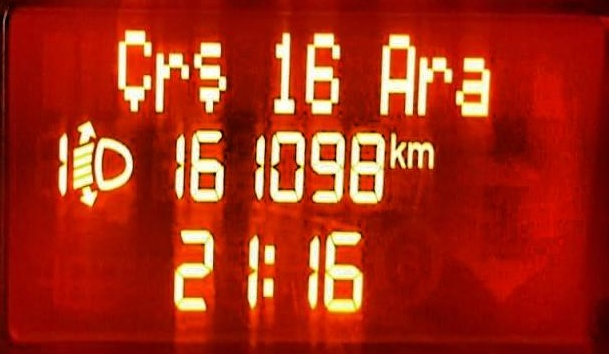0: (269, 128, 306, 202)
1: (272, 29, 295, 114), (244, 233, 259, 310), (304, 233, 319, 310), (252, 132, 265, 200), (56, 130, 69, 197), (173, 131, 185, 198)
2: (171, 227, 213, 311)
6: (321, 228, 363, 314), (302, 30, 341, 114), (188, 128, 225, 202)
8: (346, 131, 386, 205)
9: (308, 129, 345, 203)
X: (378, 32, 416, 115), (116, 28, 152, 110), (193, 39, 226, 112), (416, 54, 453, 116), (454, 54, 490, 117), (153, 50, 188, 112), (259, 242, 276, 298), (406, 140, 434, 169), (389, 131, 406, 168)
